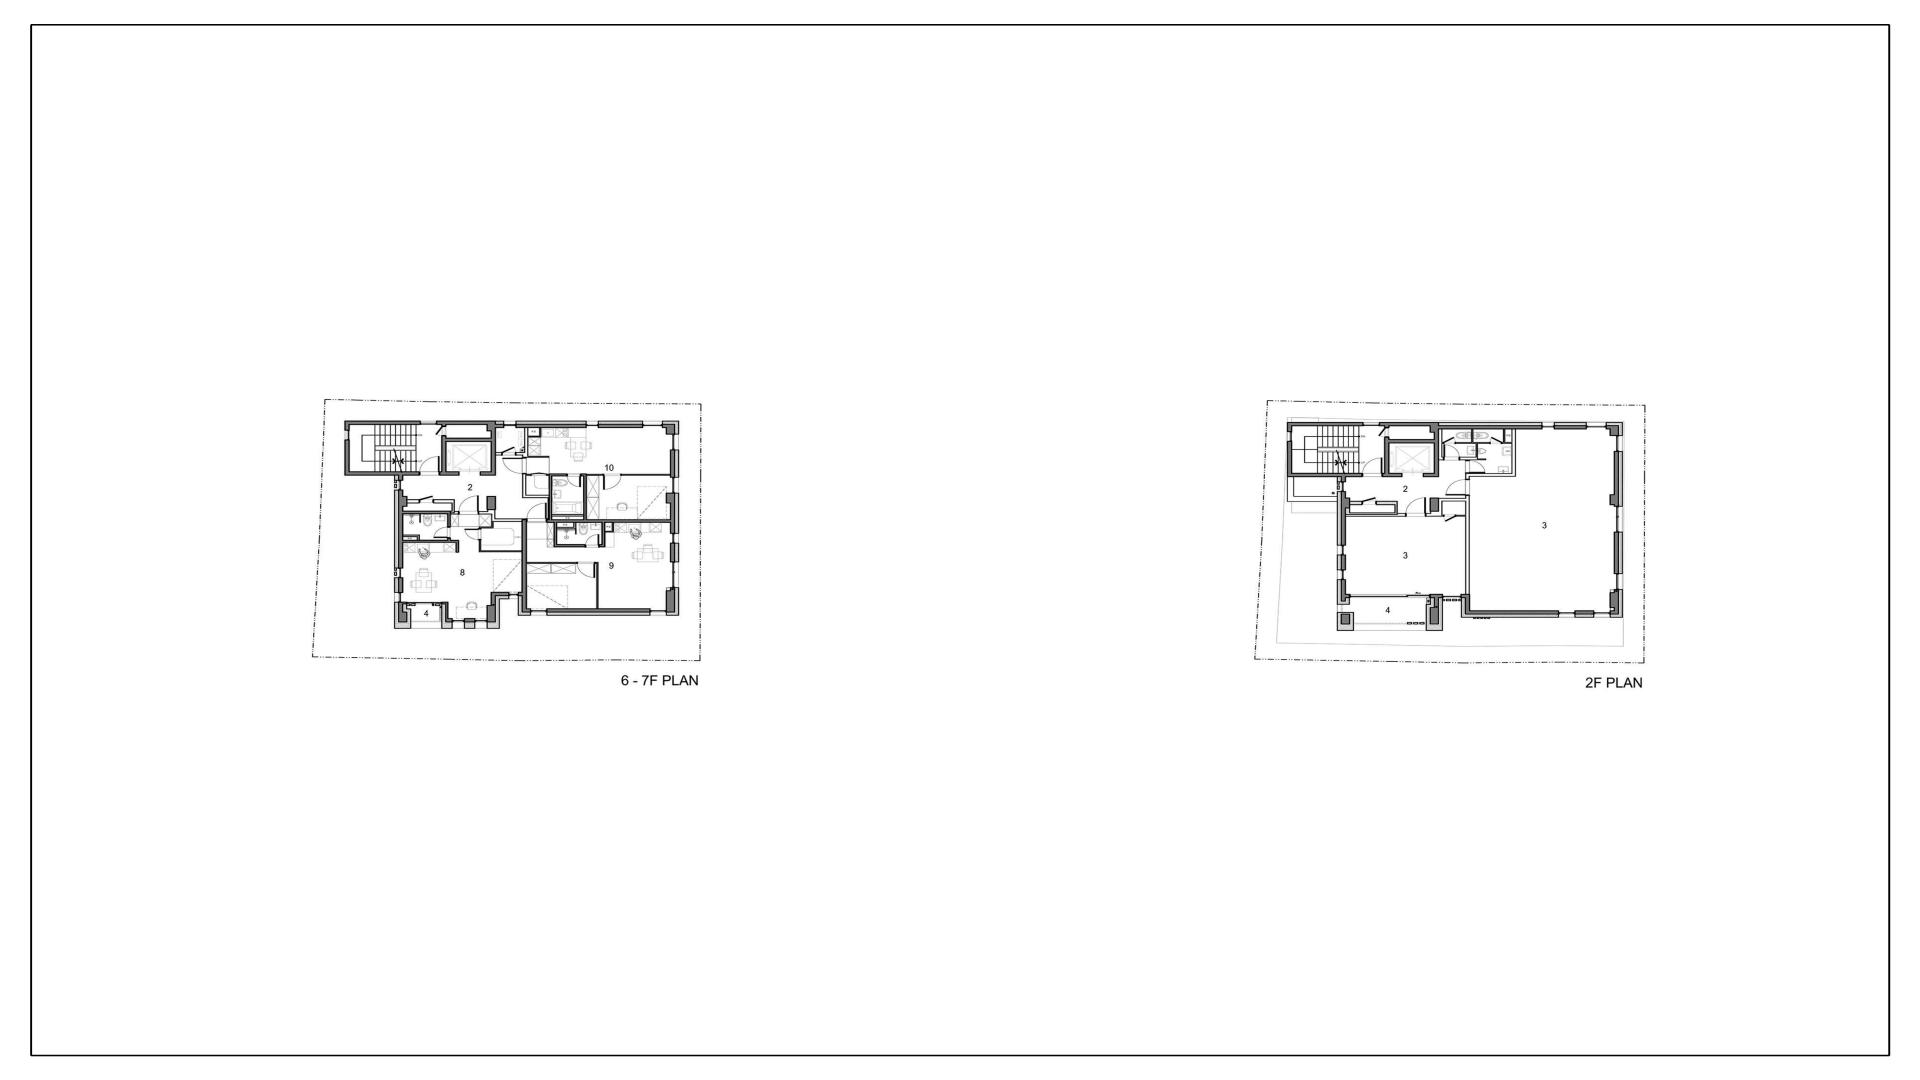door: (1445, 479, 1470, 496), (1406, 497, 1427, 517), (502, 458, 527, 473), (1362, 458, 1382, 477), (459, 496, 479, 514), (421, 456, 439, 476), (527, 502, 546, 522), (603, 473, 621, 489), (578, 562, 596, 578), (1443, 444, 1460, 460), (1465, 460, 1485, 473), (464, 529, 481, 541), (567, 473, 582, 487), (434, 527, 451, 538), (585, 534, 599, 547), (435, 425, 447, 435), (502, 447, 516, 456), (419, 496, 434, 504), (1362, 497, 1377, 505), (1378, 427, 1390, 436), (1443, 436, 1456, 444), (1444, 514, 1456, 522), (1490, 436, 1502, 443)
wall: (546, 608, 650, 613), (1439, 425, 1543, 430), (1465, 496, 1470, 593), (522, 518, 527, 608), (398, 489, 404, 568), (516, 423, 587, 429), (349, 471, 419, 476), (1470, 611, 1559, 615), (546, 520, 670, 522), (349, 421, 421, 425), (1292, 422, 1364, 426), (487, 592, 496, 622), (1439, 422, 1543, 425), (1427, 501, 1444, 517), (1461, 615, 1559, 617), (597, 423, 644, 429), (666, 587, 675, 613), (1511, 429, 1516, 473), (1614, 451, 1619, 495), (1614, 531, 1619, 574), (1619, 451, 1623, 506), (404, 539, 459, 543), (1433, 433, 1439, 473), (1337, 492, 1341, 545), (491, 431, 496, 471), (1341, 508, 1346, 546), (436, 421, 487, 425), (1379, 422, 1429, 426), (344, 439, 349, 476), (1610, 589, 1619, 611), (1385, 436, 1390, 473), (1292, 473, 1341, 477), (404, 510, 451, 514), (1287, 442, 1292, 477), (442, 435, 447, 471), (1390, 439, 1433, 443), (583, 476, 587, 520), (447, 438, 491, 442), (398, 604, 407, 622), (1619, 531, 1623, 574), (1555, 425, 1586, 430), (670, 504, 675, 534), (670, 450, 675, 477), (1341, 492, 1350, 508), (1429, 608, 1439, 624), (1345, 514, 1398, 517), (1606, 425, 1619, 435), (487, 496, 496, 510), (1429, 497, 1439, 512), (1439, 597, 1443, 630), (1469, 473, 1516, 476), (1555, 422, 1586, 426), (622, 473, 670, 476), (596, 562, 599, 608), (492, 518, 522, 522), (1341, 580, 1346, 601), (439, 471, 460, 476), (1610, 495, 1619, 506), (1439, 429, 1443, 456), (481, 550, 522, 553), (1425, 604, 1429, 630), (549, 495, 553, 520), (1337, 579, 1341, 604), (522, 495, 547, 498), (1619, 589, 1623, 615), (554, 522, 558, 547), (487, 421, 496, 431), (666, 493, 675, 504), (670, 543, 675, 562), (1429, 422, 1439, 433), (525, 429, 529, 452), (1465, 597, 1470, 615), (601, 522, 605, 545), (1341, 615, 1350, 624), (398, 578, 404, 593), (1377, 501, 1398, 505), (1382, 473, 1403, 477), (522, 473, 526, 495), (480, 471, 496, 476), (549, 473, 553, 495), (553, 514, 583, 517), (1575, 611, 1594, 615), (1341, 555, 1346, 570), (1460, 456, 1478, 460), (558, 545, 585, 547), (662, 423, 675, 429), (1439, 498, 1465, 501), (516, 452, 529, 458), (479, 510, 496, 514), (1461, 597, 1465, 615), (434, 500, 451, 504), (527, 562, 578, 563), (1345, 513, 1394, 514), (1337, 615, 1341, 630), (1350, 615, 1354, 630), (1346, 473, 1362, 477), (1423, 473, 1439, 477), (666, 429, 675, 435), (1341, 624, 1350, 630), (1429, 624, 1439, 630), (1337, 555, 1341, 570), (1433, 597, 1439, 608), (496, 592, 509, 596), (1429, 593, 1443, 597), (1575, 615, 1594, 617), (1619, 422, 1623, 435), (1606, 422, 1619, 426), (447, 514, 451, 527), (1287, 422, 1292, 431), (344, 421, 349, 430), (1350, 501, 1362, 505), (407, 500, 419, 504), (451, 500, 455, 512), (1456, 442, 1490, 443), (1337, 612, 1354, 615), (496, 423, 504, 429), (464, 618, 475, 622), (404, 496, 407, 506), (1429, 597, 1433, 608), (1341, 473, 1346, 481), (587, 473, 603, 476), (446, 604, 448, 618), (479, 526, 493, 529), (553, 473, 567, 476), (522, 608, 531, 612), (1394, 505, 1398, 514), (1461, 593, 1470, 597), (1610, 611, 1619, 615), (1476, 443, 1478, 456), (1610, 615, 1623, 617), (404, 534, 417, 537), (1398, 513, 1406, 517), (479, 541, 481, 553), (398, 476, 404, 481), (1465, 473, 1470, 479), (1345, 508, 1350, 513), (529, 456, 550, 458), (446, 618, 452, 622), (398, 601, 407, 604), (1456, 514, 1465, 517), (456, 543, 459, 553), (612, 522, 615, 531), (558, 527, 576, 529), (451, 512, 459, 514), (1341, 601, 1349, 604), (417, 534, 421, 539), (442, 601, 448, 604), (1472, 429, 1473, 442), (1503, 429, 1505, 442), (496, 452, 502, 455), (599, 545, 605, 547), (529, 436, 542, 438), (539, 429, 542, 435), (518, 592, 522, 596), (492, 514, 496, 518), (1346, 593, 1350, 597), (1346, 597, 1350, 601), (1439, 456, 1443, 460), (574, 522, 576, 527), (582, 473, 587, 476), (1502, 442, 1511, 443), (605, 531, 615, 533), (1478, 459, 1486, 460), (526, 473, 530, 476), (1385, 426, 1390, 427), (447, 538, 451, 539), (492, 522, 493, 526), (1443, 442, 1443, 443)
window: (1354, 622, 1425, 630), (1350, 593, 1429, 597), (1614, 506, 1625, 531), (670, 562, 679, 587), (1586, 421, 1606, 430), (1614, 435, 1625, 451), (1443, 593, 1461, 601), (1614, 574, 1623, 589), (644, 421, 662, 429), (670, 435, 679, 450), (670, 477, 679, 492), (1559, 611, 1576, 617), (1543, 421, 1555, 430), (1594, 611, 1610, 617), (1337, 481, 1346, 492), (1337, 545, 1346, 555), (1337, 570, 1346, 580), (504, 421, 516, 429), (407, 601, 442, 604), (670, 534, 679, 543), (587, 421, 597, 429), (651, 608, 666, 613), (531, 608, 546, 613), (1364, 422, 1379, 426), (421, 421, 436, 425), (1287, 431, 1292, 442), (344, 430, 349, 439), (398, 568, 404, 578), (452, 618, 464, 622), (398, 481, 404, 489), (1337, 604, 1342, 612), (476, 618, 487, 622), (398, 593, 404, 601), (509, 592, 518, 596)
